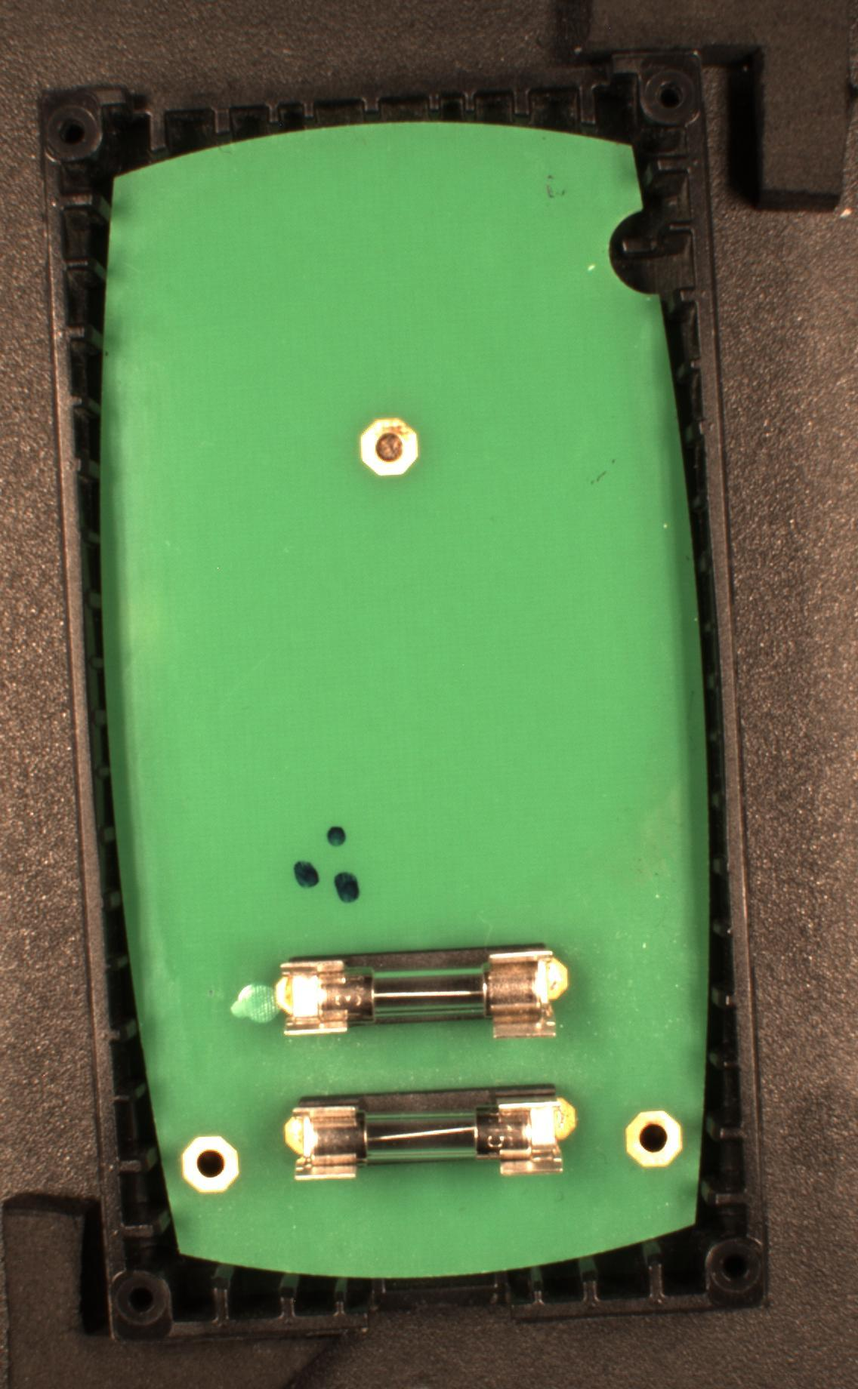Tockasto Ostecenje: (334, 872, 360, 905), (292, 860, 320, 890), (325, 825, 347, 848)
